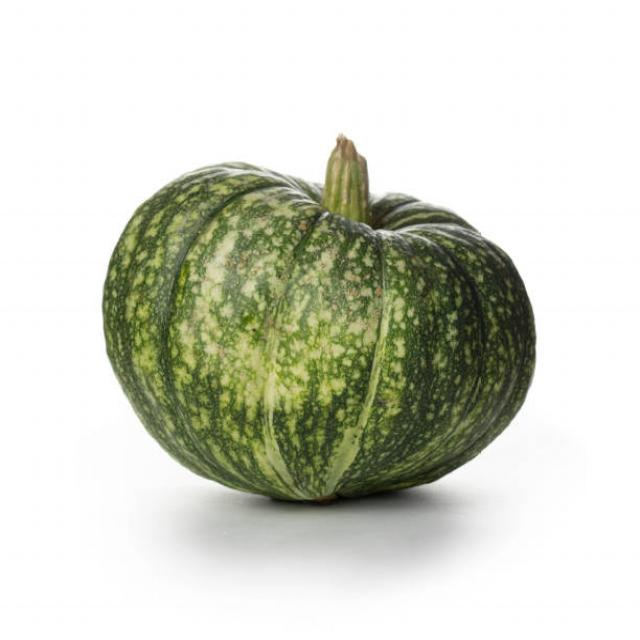pumpkin: (103, 148, 540, 508)
